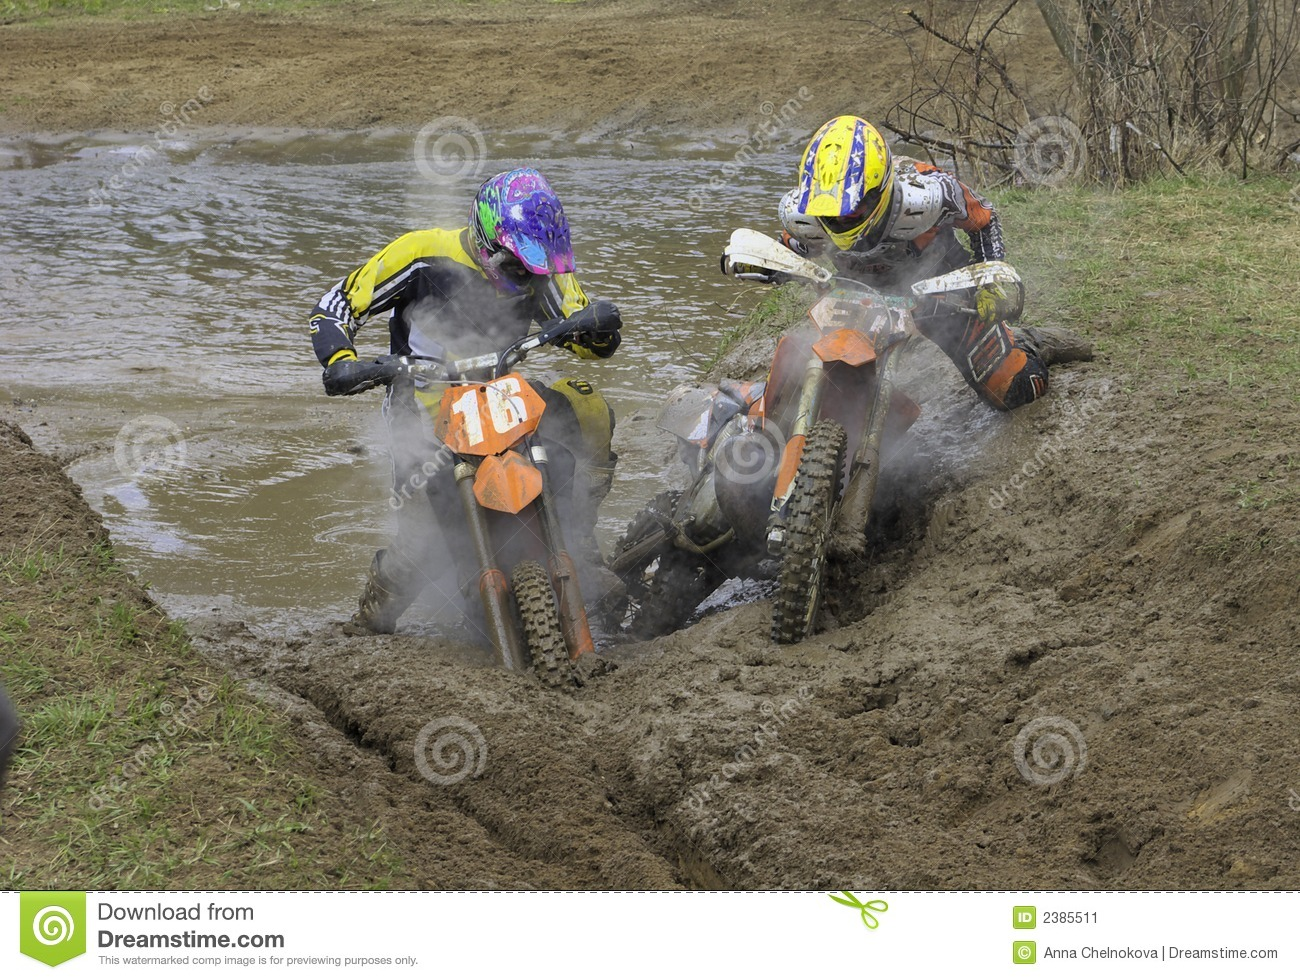helmet: (799, 111, 900, 253), (470, 169, 572, 296)
